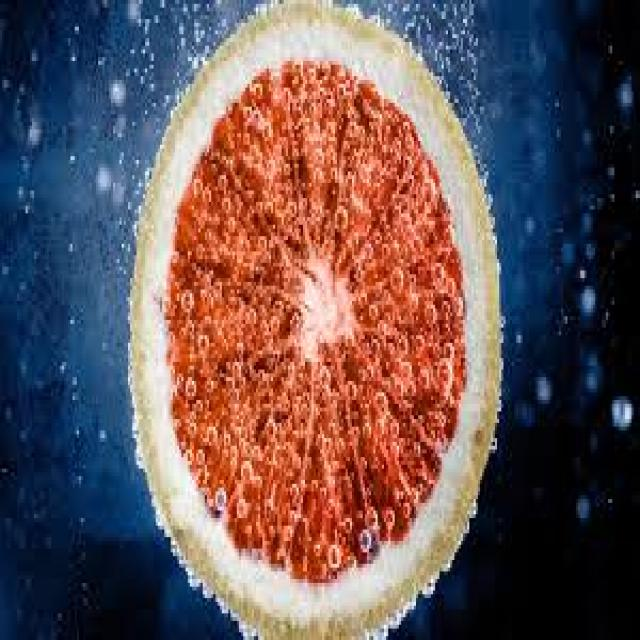orange: (128, 0, 508, 629)
